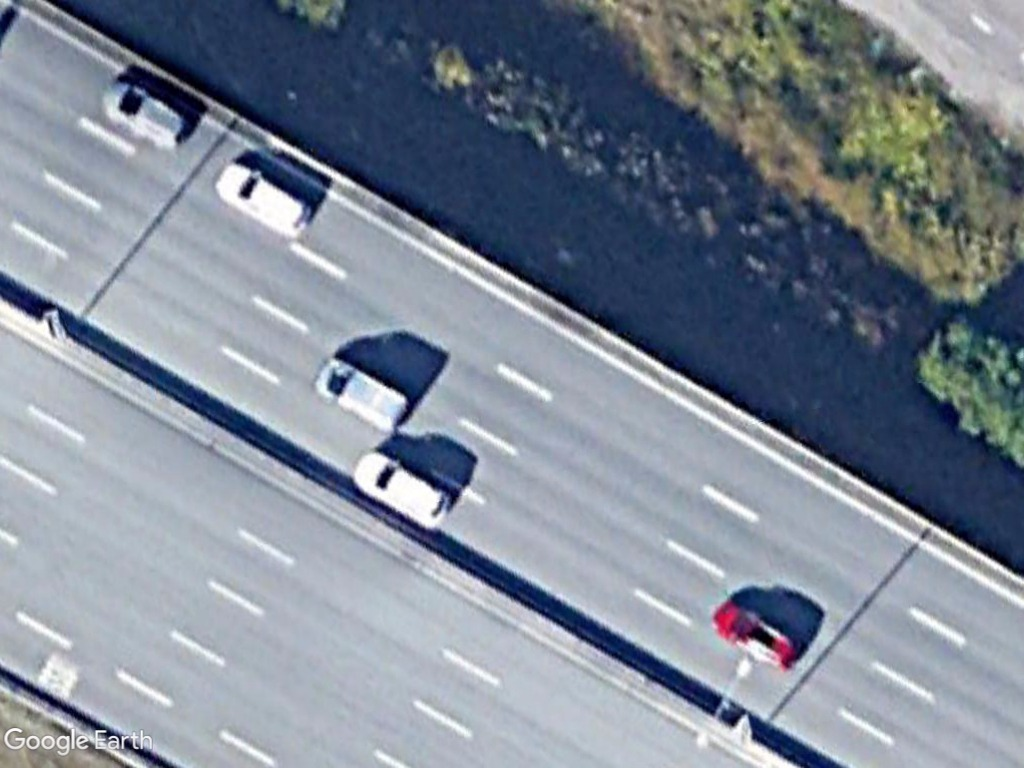car: (347, 442, 461, 531), (708, 596, 803, 673), (96, 80, 193, 151)
van: (311, 352, 417, 438), (215, 159, 315, 240)
